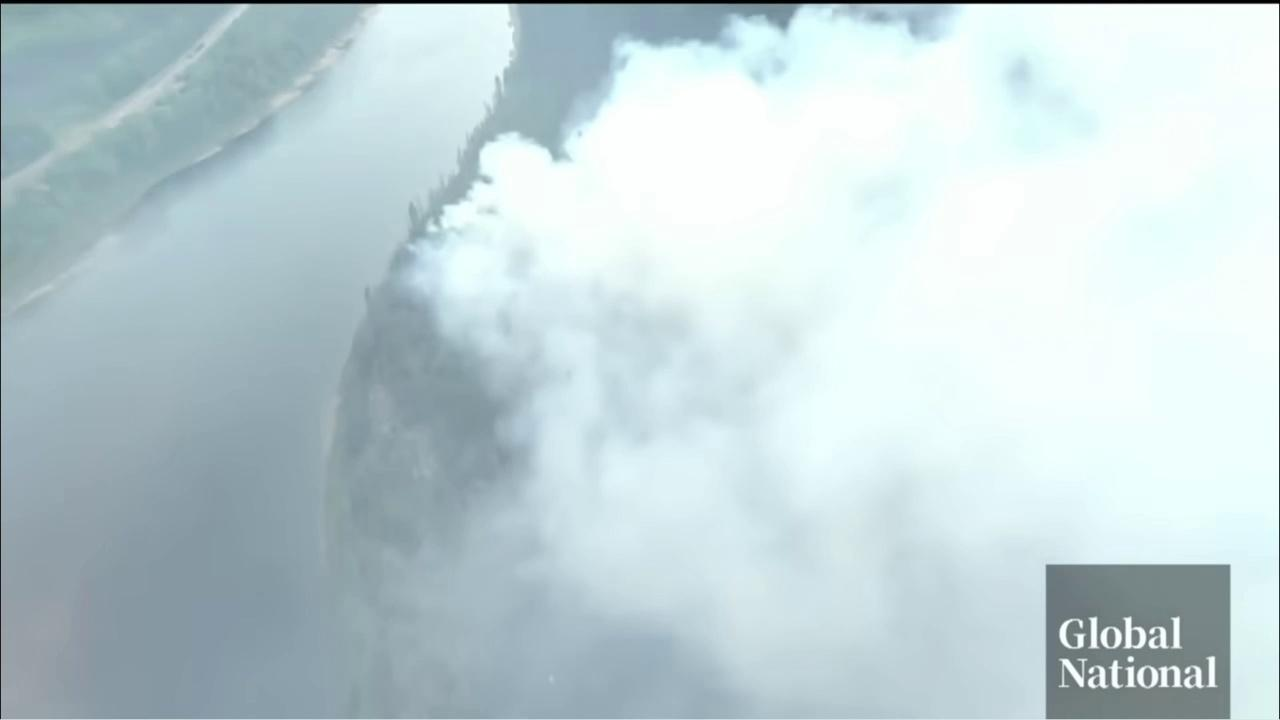smoke: (327, 7, 1280, 720)
